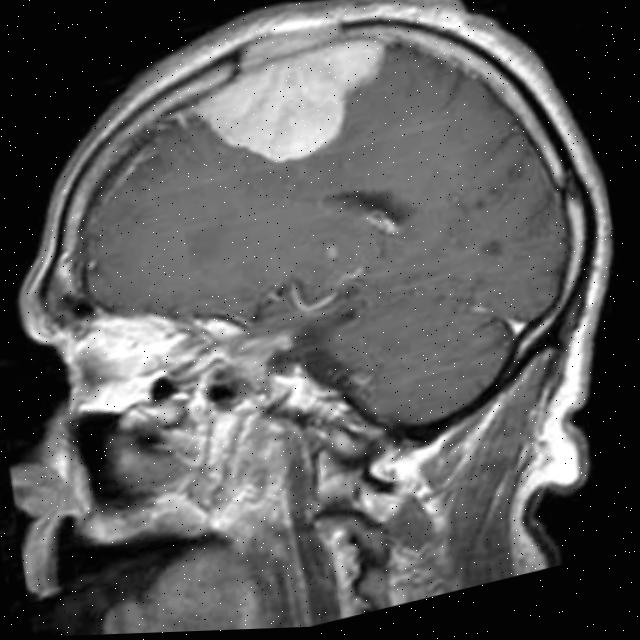Meningioma: (175, 16, 406, 185)
